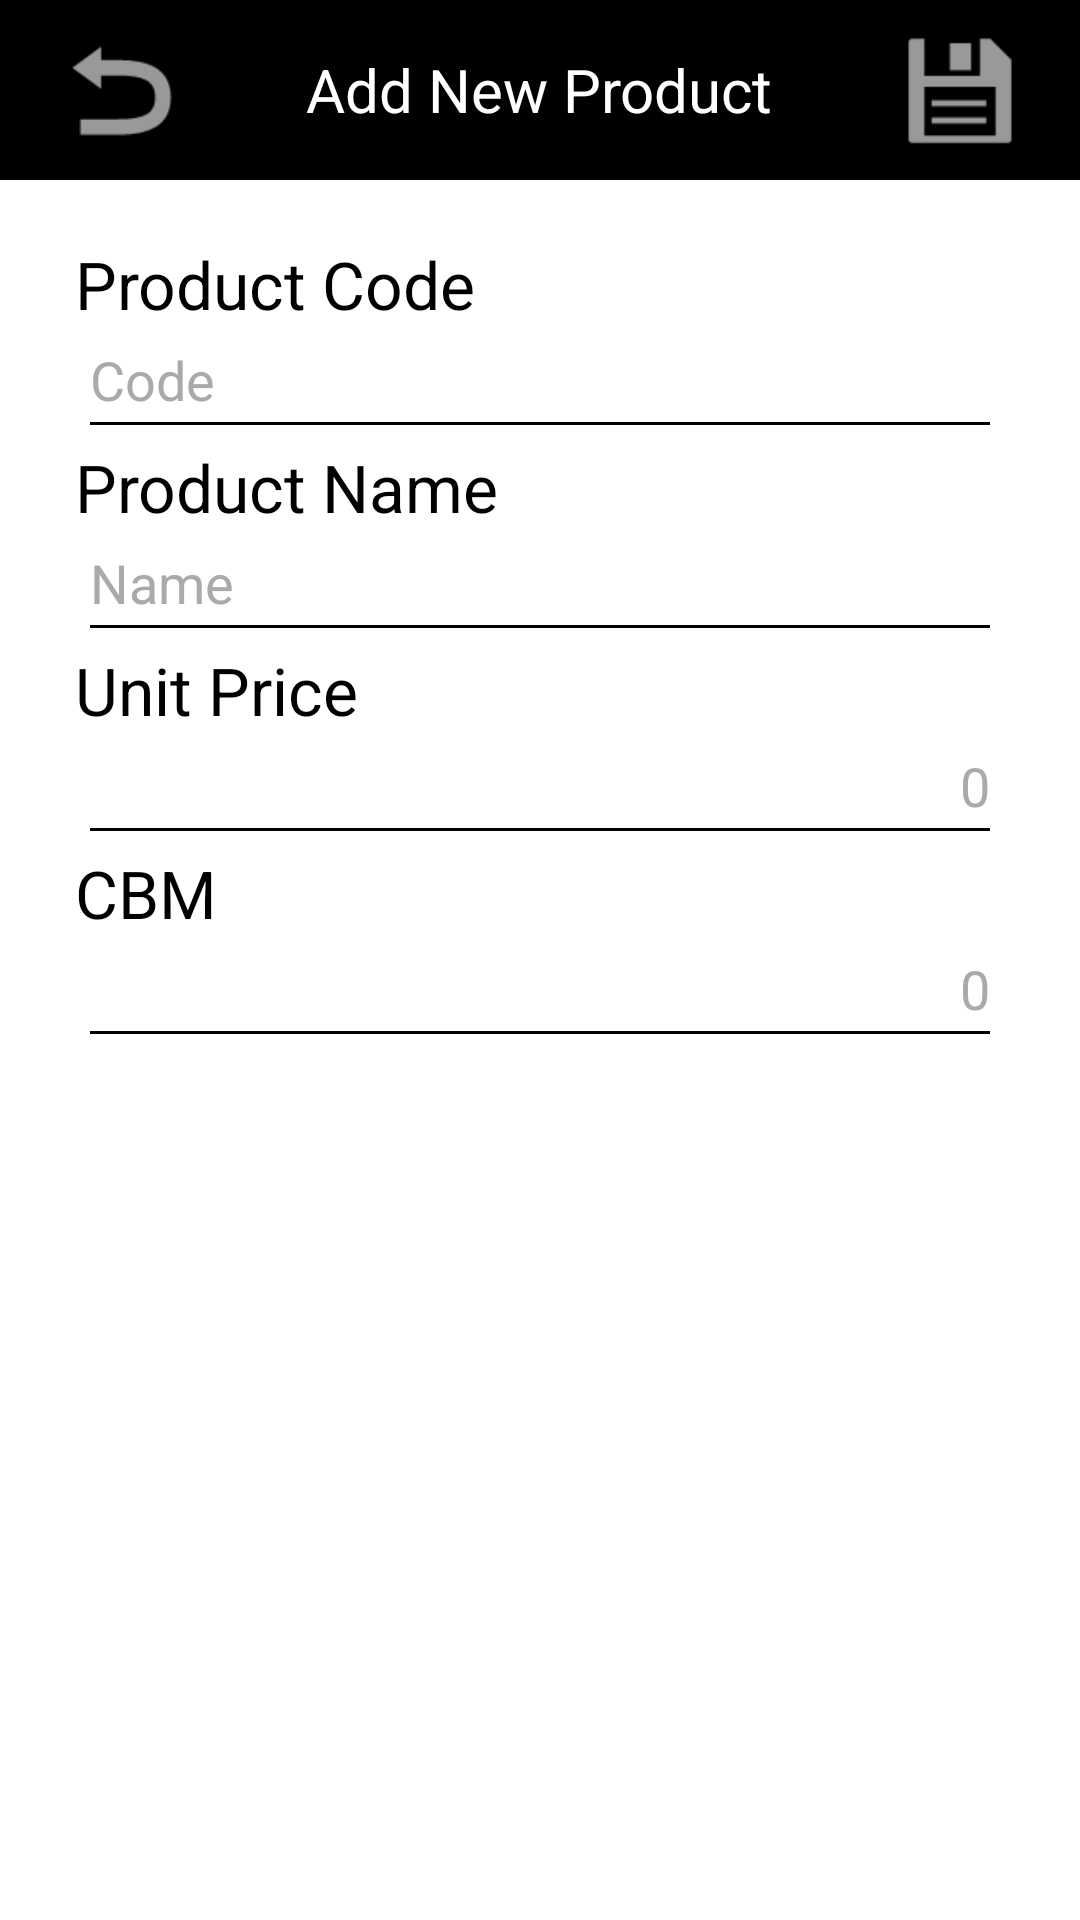

Icons on this 1080×1920 Android screen, each with the point to tap as point (x, y):
revert: point (122, 91)
save: point (960, 91)
